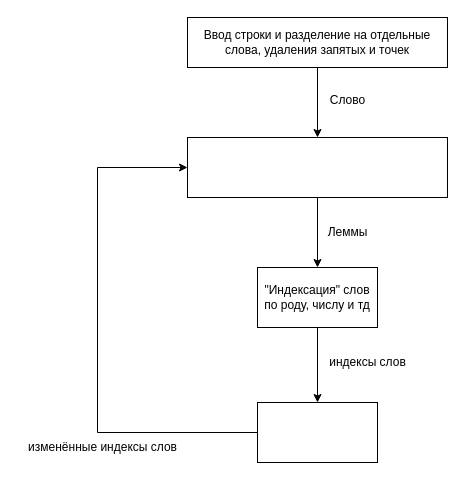
Image size: 465x480. Some labels were removed from this diagram. Each missing label, with the box of its shape:
Поиск в словаре/ поиск по готовой лемме + индексам: (186, 136, 448, 198)
Сравнение по индексам и подгонка под них: (256, 402, 378, 462)
